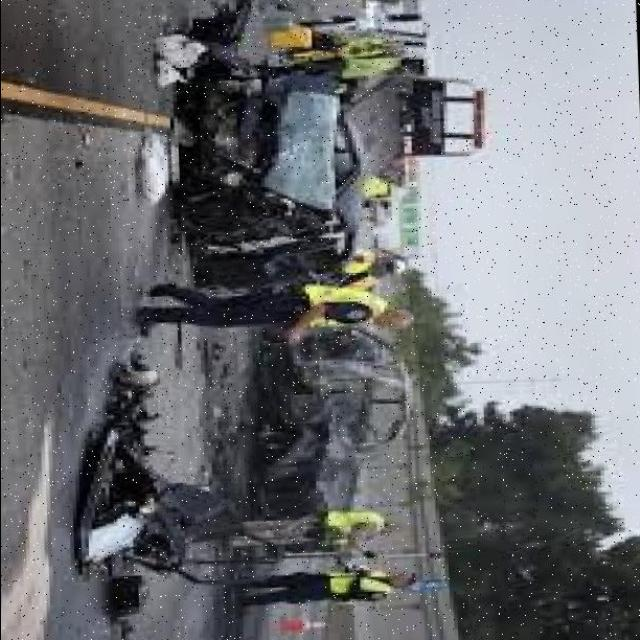accident: (136, 58, 456, 292), (227, 299, 465, 549)
